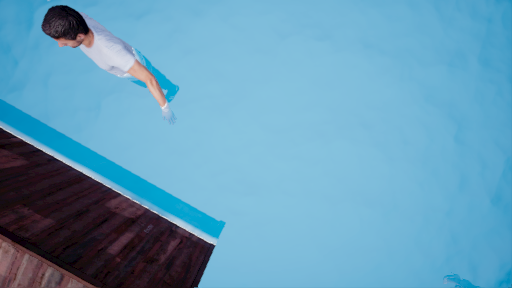person: (42, 6, 196, 125)
